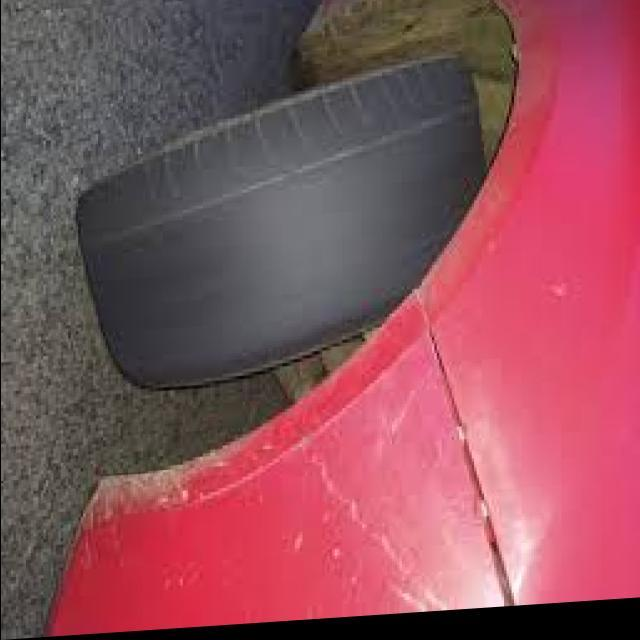Flat spots: (96, 164, 290, 358), (305, 82, 471, 268)
